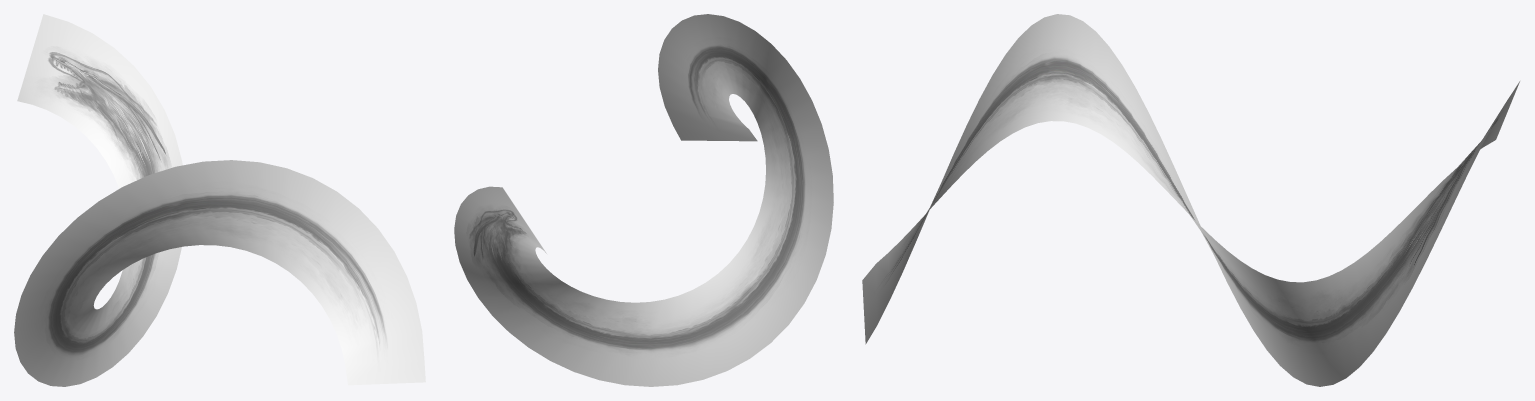
File: WK_longtiaodai02.FBX
3 renders of one model, left to right at view 1: azimuth 30°, elevation 25°; view 2: azimuth 150°, elevation 25°; view 3: azimuth 270°, elevation 25°, orthographic. The views are drawn at different scales.
Visible parts, largest first — view 1: WK_longtiaodai02; view 2: WK_longtiaodai02; view 3: WK_longtiaodai02.
Part boxes in pixels (bbox=[...]): WK_longtiaodai02: bbox=[14, 14, 425, 386]; WK_longtiaodai02: bbox=[454, 14, 833, 386]; WK_longtiaodai02: bbox=[862, 14, 1519, 386].
Bounding box in the file's own units: 566 × 555 × 975.
